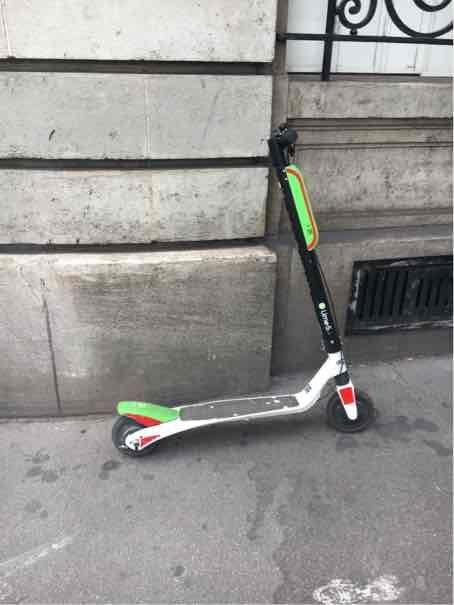scooter: (102, 109, 384, 459)
